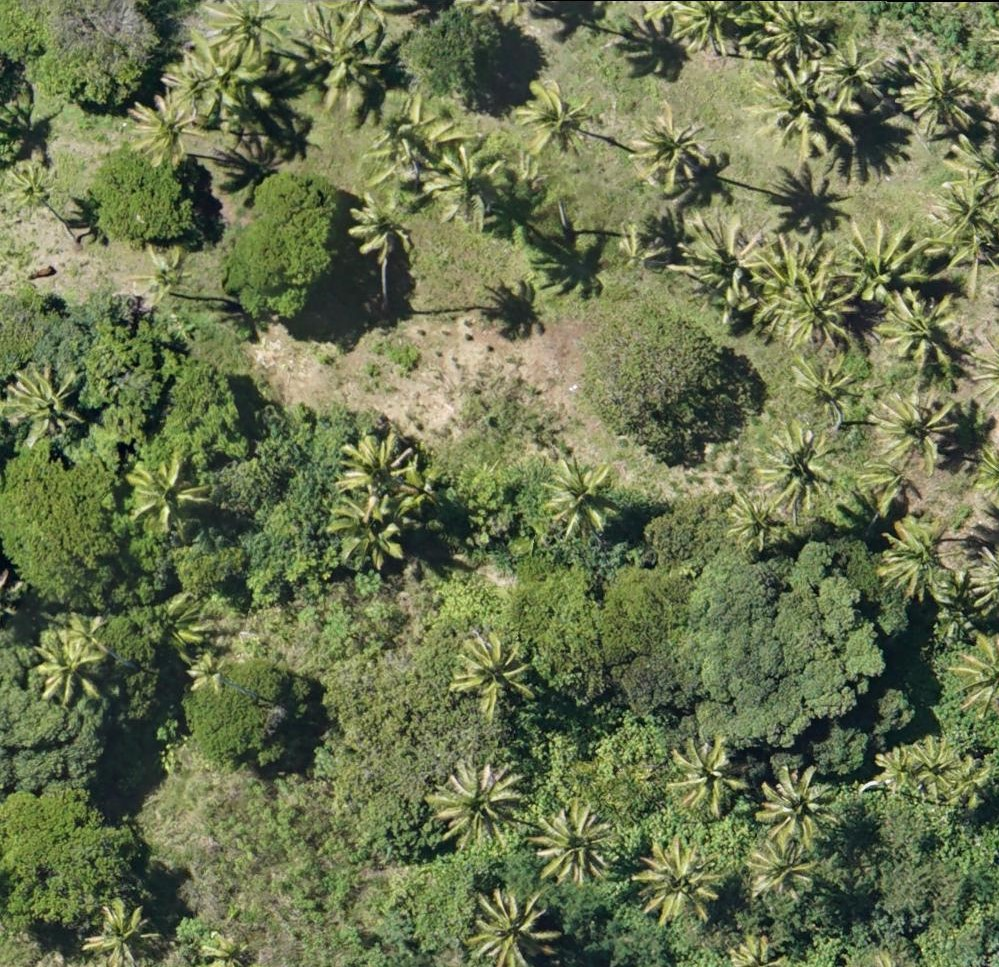Palm: (752, 63, 859, 160), (449, 632, 546, 716), (432, 762, 523, 849), (468, 886, 562, 967), (635, 835, 718, 926), (884, 286, 965, 377), (632, 103, 721, 182), (302, 19, 388, 100), (759, 764, 841, 846), (194, 35, 275, 118), (686, 216, 765, 300), (763, 421, 840, 507), (335, 425, 420, 501), (849, 217, 930, 296), (535, 806, 614, 885), (903, 55, 984, 131), (878, 385, 953, 465), (130, 457, 211, 530), (671, 732, 748, 808), (541, 453, 615, 532), (519, 76, 592, 155), (7, 364, 79, 444), (331, 491, 411, 563), (788, 353, 865, 425), (202, 1, 290, 63), (34, 621, 107, 695), (880, 519, 949, 595), (429, 149, 501, 218), (354, 191, 422, 260), (131, 93, 201, 160), (378, 105, 446, 173), (90, 899, 159, 966), (821, 39, 888, 107), (781, 278, 849, 343), (753, 834, 817, 901), (761, 3, 830, 63), (935, 187, 999, 251), (163, 51, 227, 113), (137, 242, 197, 304), (3, 154, 61, 217), (865, 454, 923, 515), (723, 492, 783, 549), (618, 221, 671, 271)
